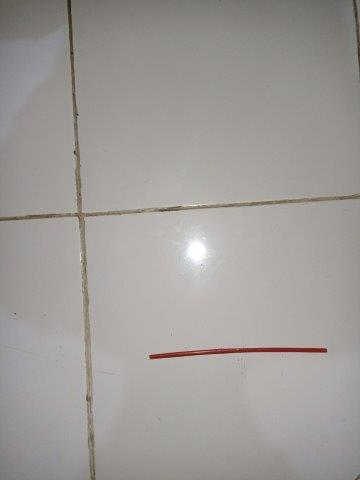sedotan: (149, 347, 327, 359)
